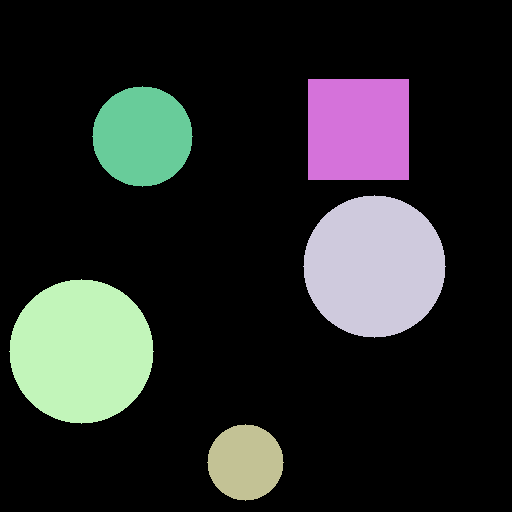circle: (9, 279, 153, 423), (303, 195, 445, 337), (92, 86, 192, 186), (207, 424, 283, 500)
square: (308, 79, 408, 179)
